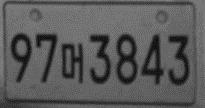3: (166, 33, 190, 86), (88, 33, 111, 84)
4: (140, 33, 164, 85)
7: (34, 32, 58, 83)
8: (115, 32, 138, 85)
9: (9, 32, 33, 83)
머: (60, 42, 84, 83)
